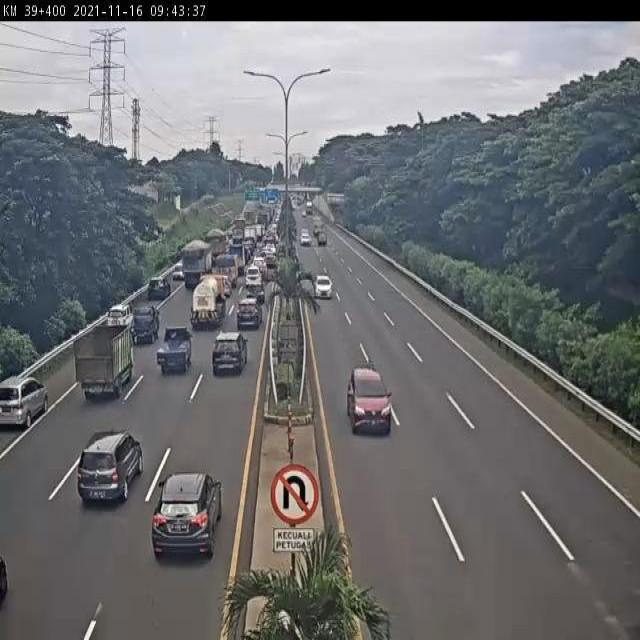car: (147, 468, 229, 572), (73, 427, 147, 513), (345, 368, 392, 429), (0, 370, 47, 430), (150, 328, 193, 383), (205, 332, 248, 384), (125, 303, 159, 349), (233, 300, 262, 337), (141, 278, 170, 306), (244, 279, 267, 305), (244, 264, 262, 291), (213, 274, 233, 298), (169, 265, 187, 288), (316, 274, 333, 298), (252, 252, 270, 273), (263, 251, 279, 268), (316, 231, 326, 245), (299, 232, 309, 245)
small truck: (71, 320, 136, 407), (214, 252, 237, 284), (226, 244, 246, 276)
truck-m-: (190, 272, 227, 335), (176, 240, 213, 291), (203, 227, 229, 261)
